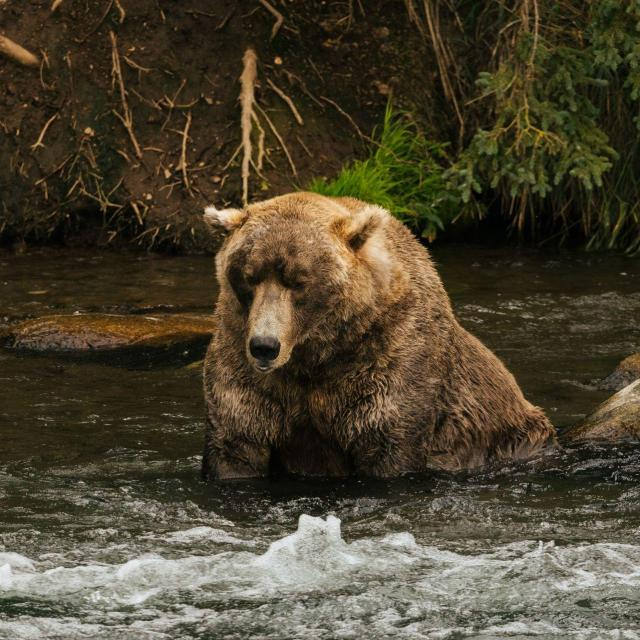Bear: (201, 192, 562, 486)
